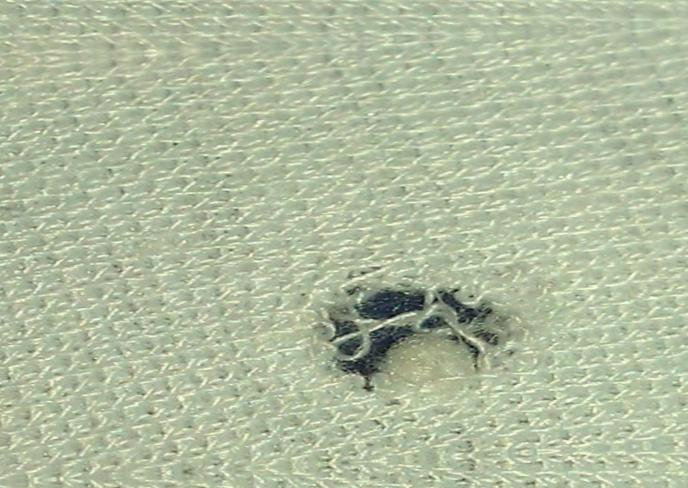hole: (344, 310, 500, 411)
